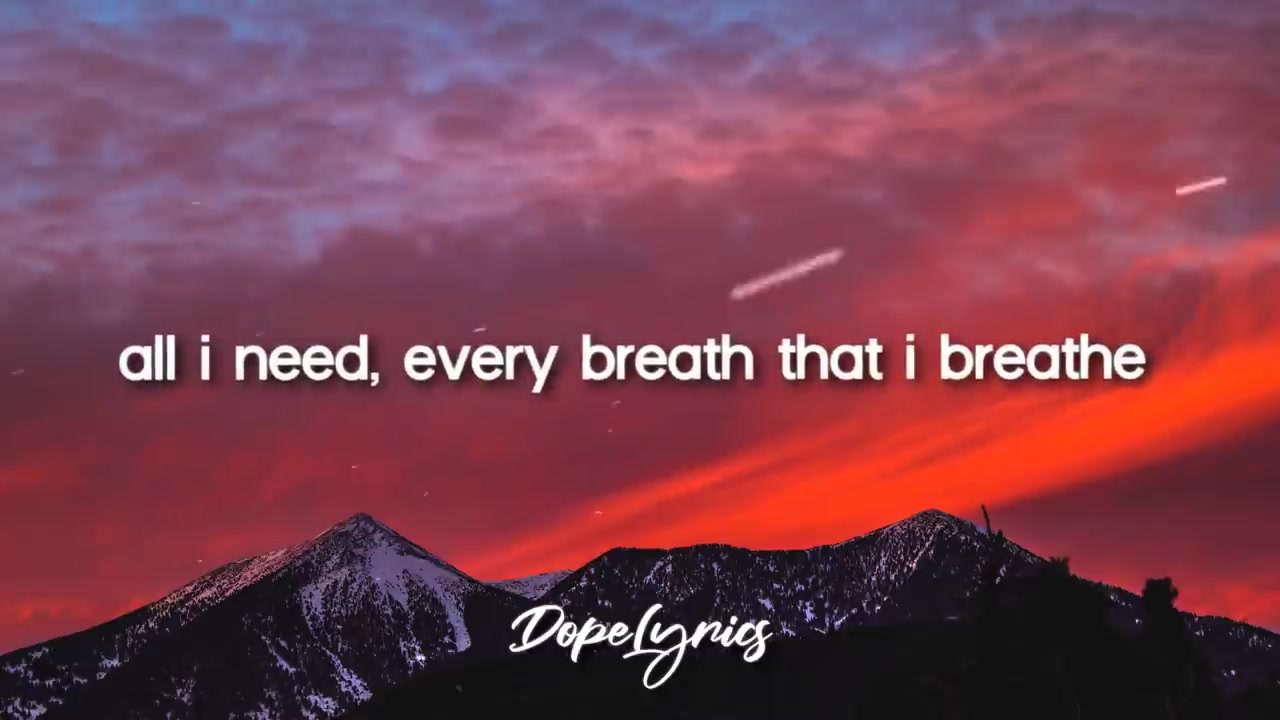text-label: (115, 330, 1149, 399)
